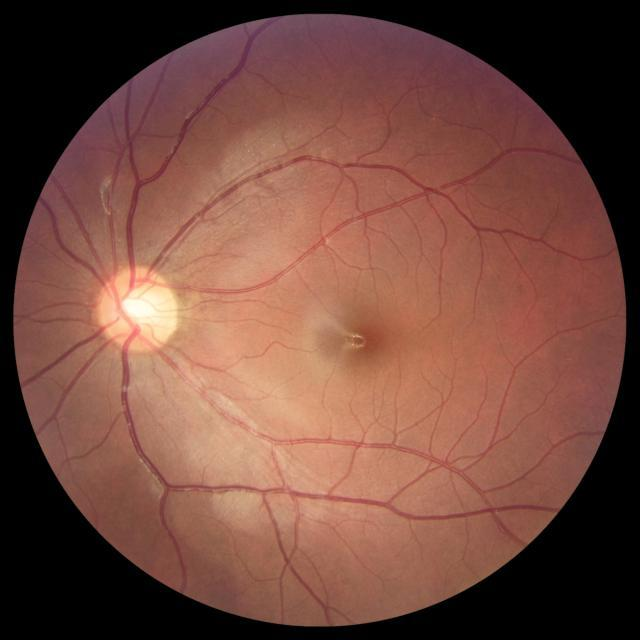OC: (118, 290, 162, 330)
OD: (96, 265, 182, 353)
